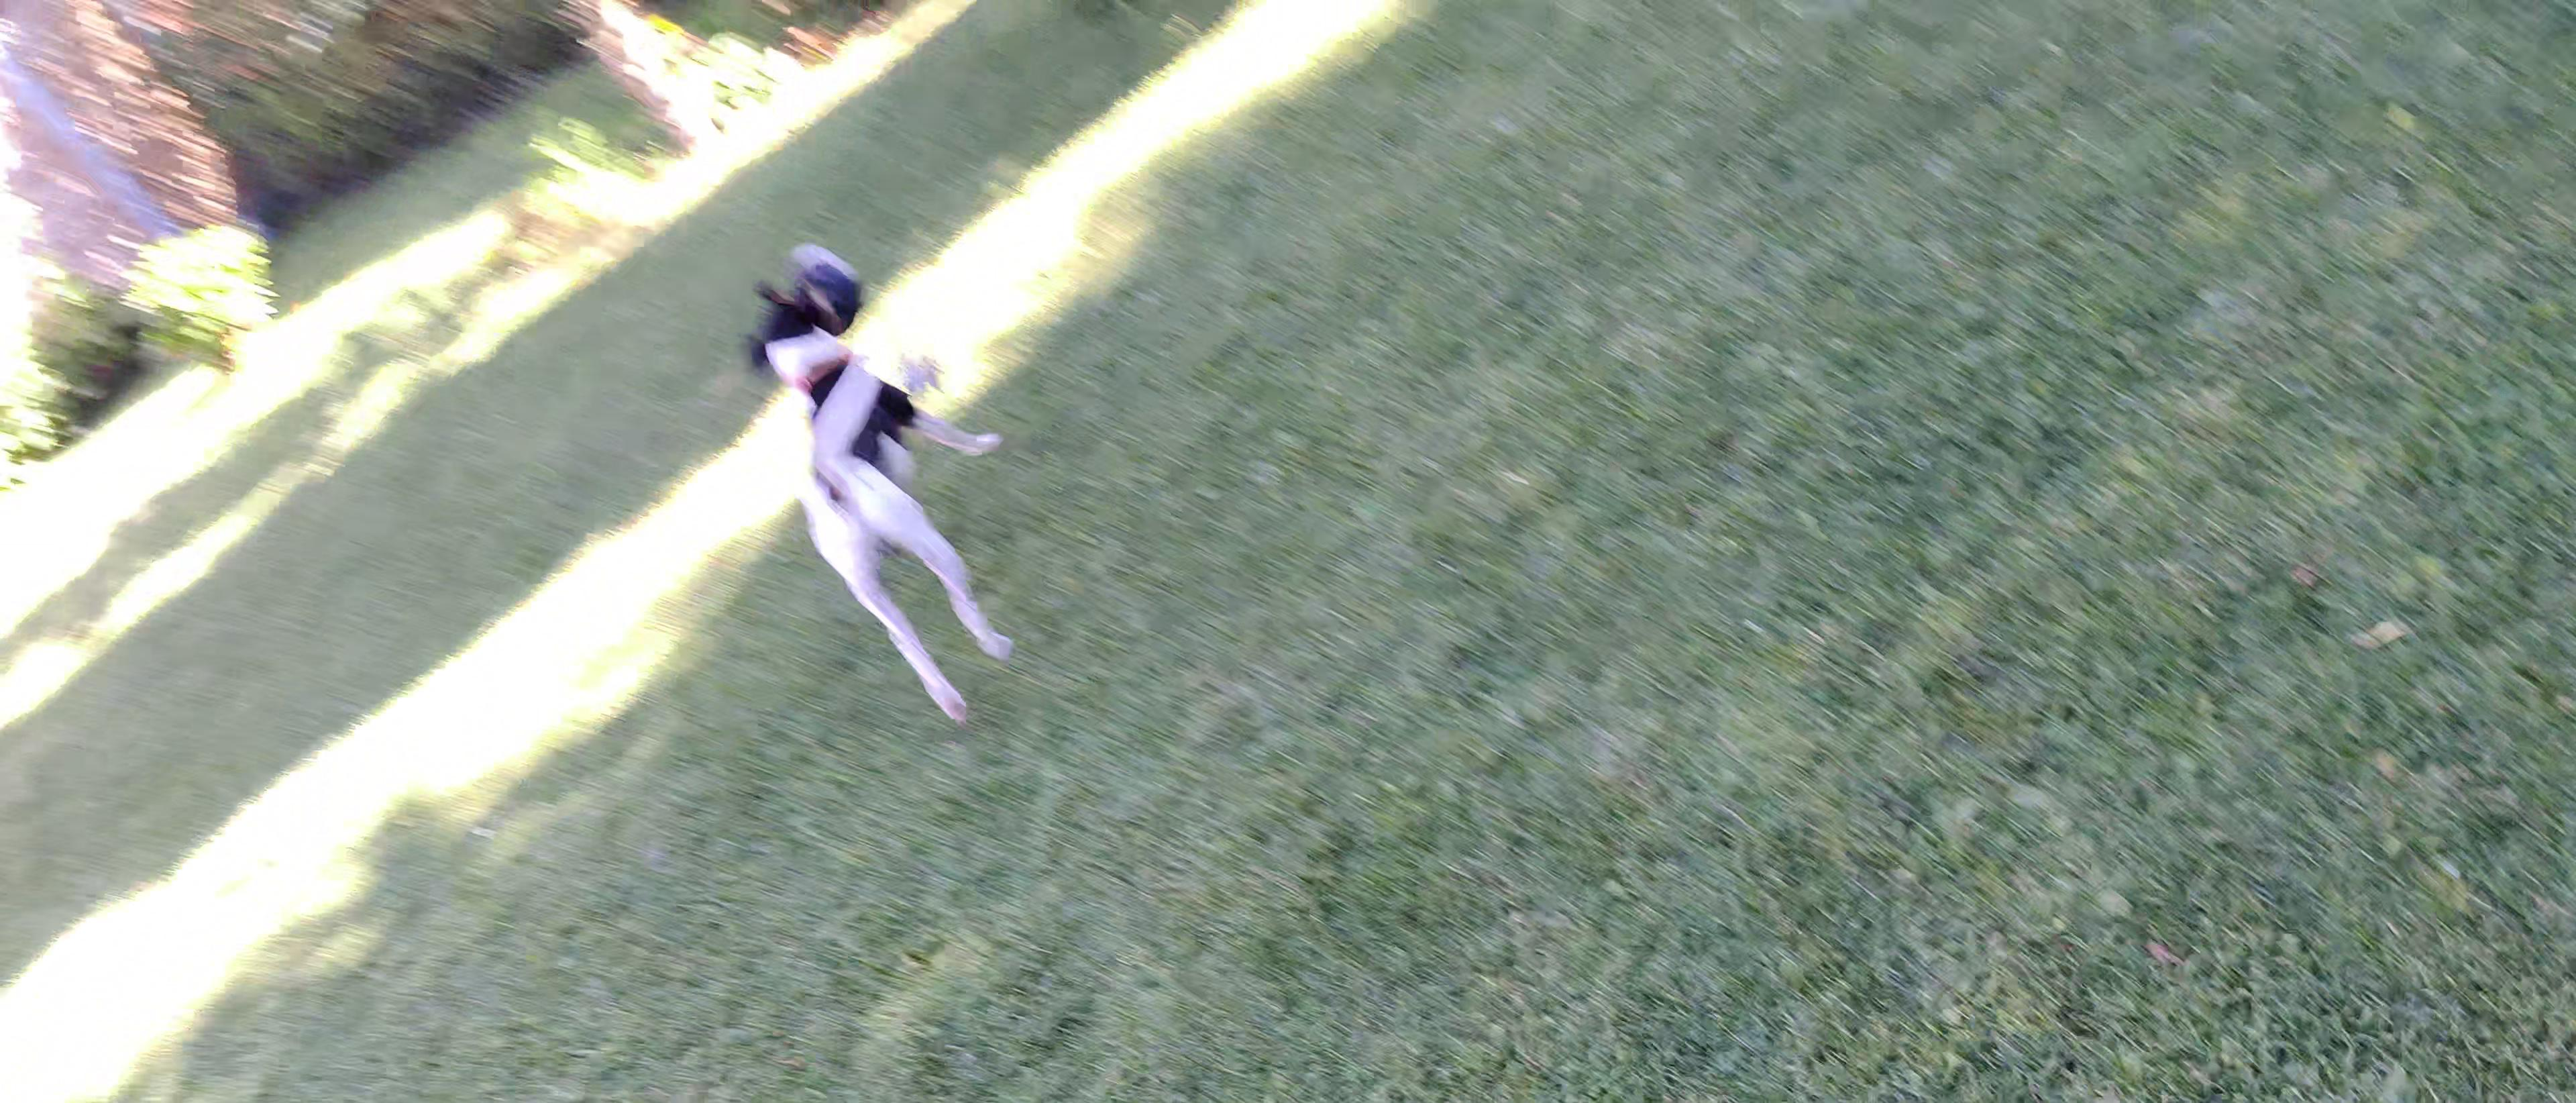Dog: (715, 227, 1037, 730)
